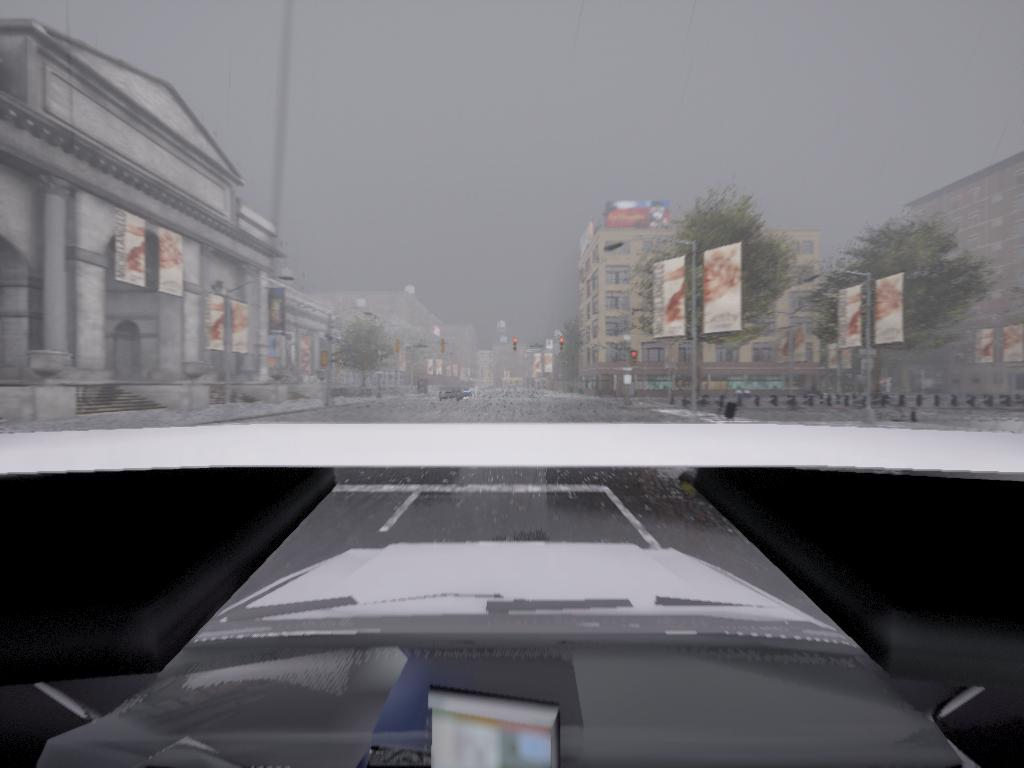traffic_light: (631, 351, 640, 367), (321, 352, 329, 367), (511, 341, 519, 355), (560, 338, 566, 353), (513, 339, 520, 351), (396, 340, 402, 354), (441, 339, 446, 353)
